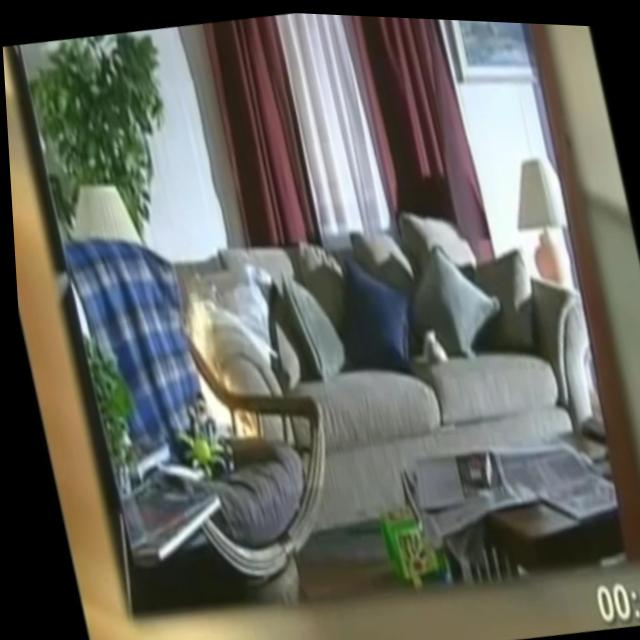fire: (173, 282, 257, 447)
